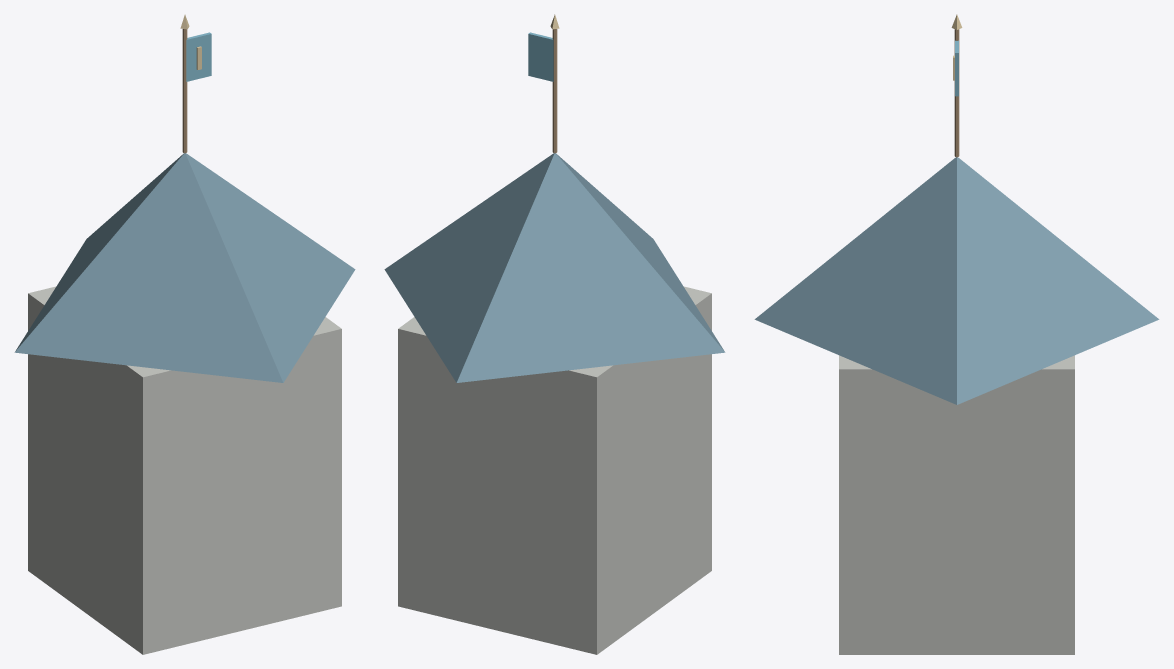
File: human_keep.glb
The picture shows the model from 3 angles, left to right: view 1: azimuth 30°, elevation 25°; view 2: azimuth 150°, elevation 25°; view 3: azimuth 270°, elevation 25°; orthographic projection. The views are drawn at different scales.
Visible parts, largest first — view 1: human_keep_MAT_stone, human_keep_MAT_roof, human_keep_MAT_blue, human_keep_MAT_wood; view 2: human_keep_MAT_stone, human_keep_MAT_roof, human_keep_MAT_blue, human_keep_MAT_wood; view 3: human_keep_MAT_stone, human_keep_MAT_roof.
Part boxes in pixels (bbox=[...]): human_keep_MAT_stone: bbox=[28, 286, 341, 654]; human_keep_MAT_roof: bbox=[14, 153, 355, 382]; human_keep_MAT_blue: bbox=[186, 32, 211, 81]; human_keep_MAT_wood: bbox=[182, 29, 187, 153]; human_keep_MAT_stone: bbox=[398, 286, 711, 654]; human_keep_MAT_roof: bbox=[384, 153, 725, 382]; human_keep_MAT_blue: bbox=[528, 32, 553, 81]; human_keep_MAT_wood: bbox=[552, 29, 557, 153]; human_keep_MAT_stone: bbox=[839, 355, 1074, 654]; human_keep_MAT_roof: bbox=[754, 157, 1159, 404].
Size of the model in its own units: 3.6 by 5.8 by 3.6.
